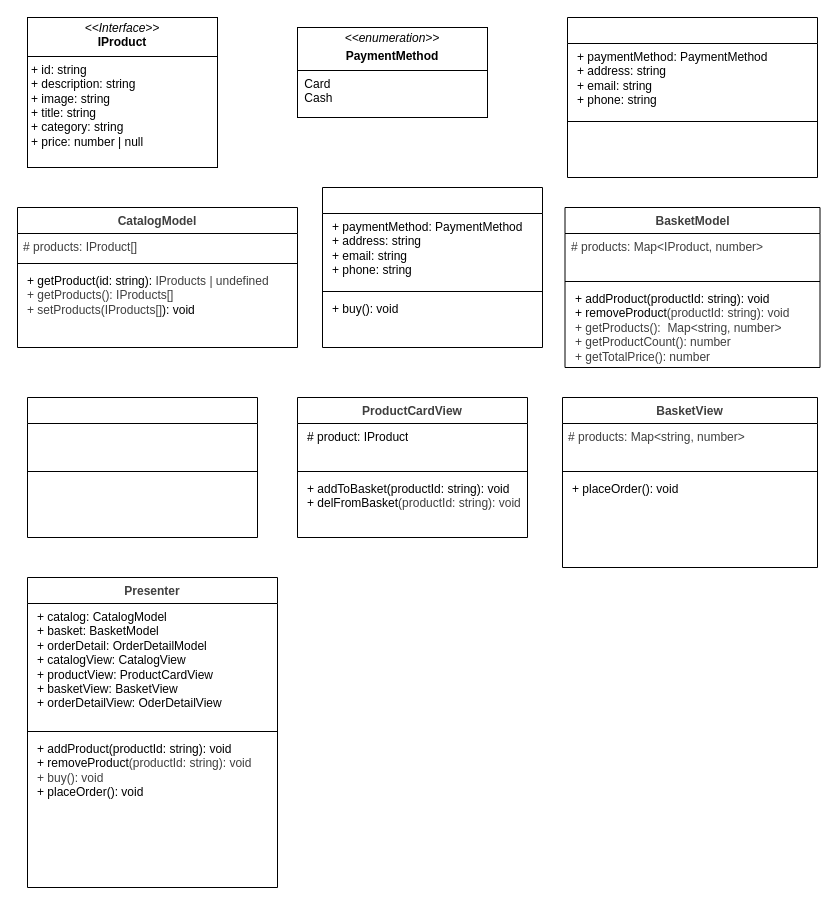
Some shapes in this 838 by 908 pixel diagram are drawn without their labels. Here are the shapes that lost their labels. From the top down, the box of each, then its label:
(566, 16, 818, 178): OrderDetail Model
(322, 186, 542, 348): OrderDetailView
(26, 396, 258, 538): CatalogView
